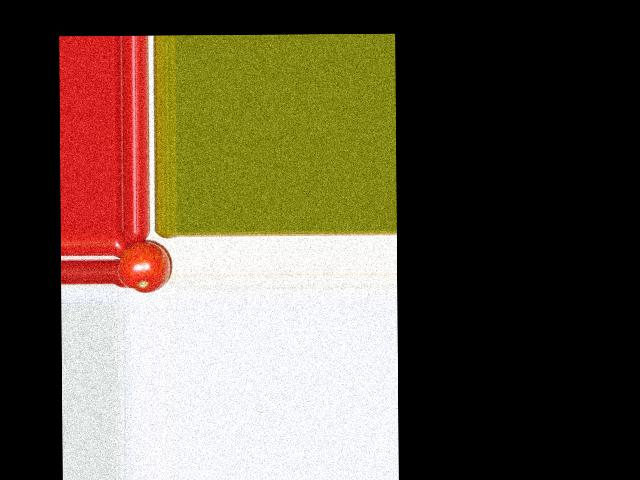tomato: (117, 240, 171, 293)
